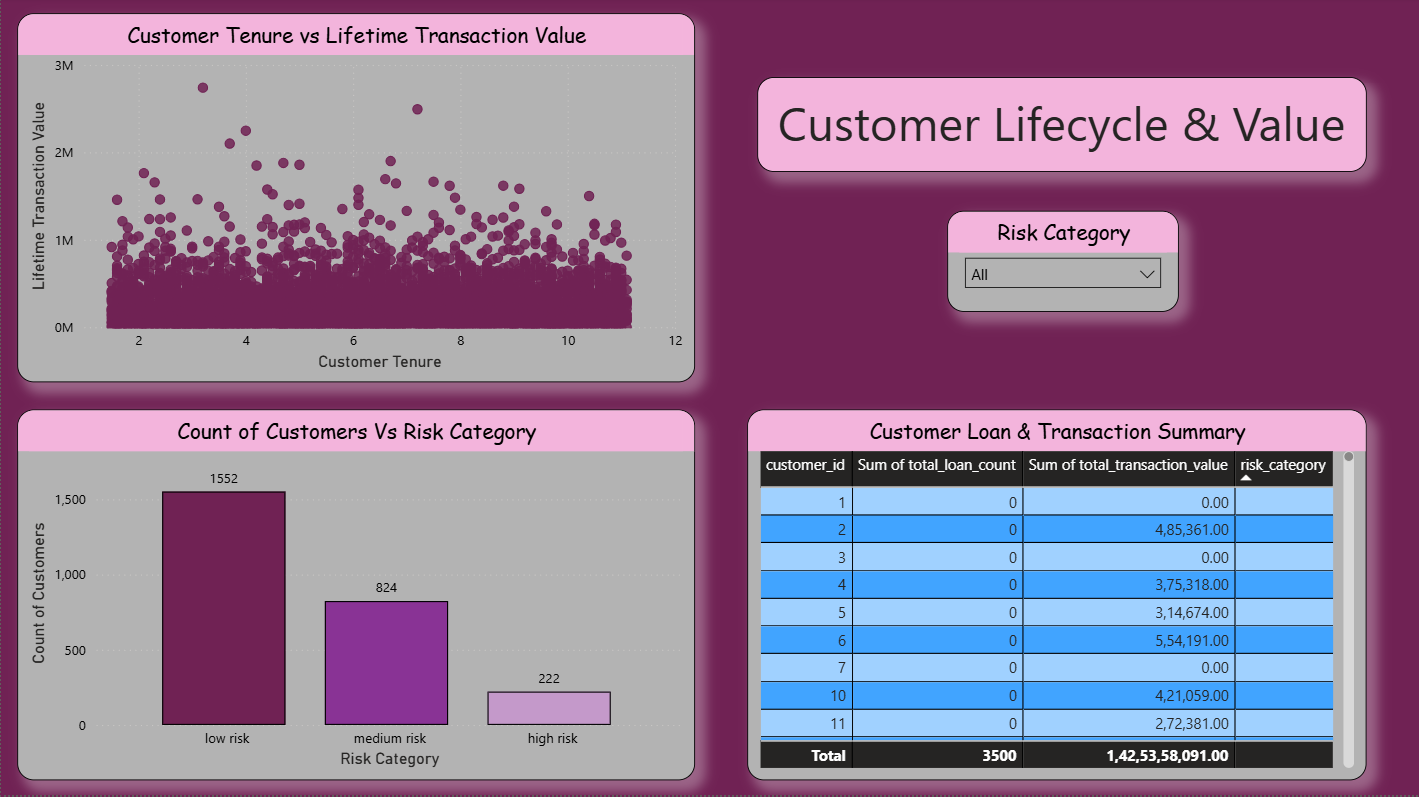

The dashboard page shown, as its layout file describes it:
{"tool":"powerbi","page":{"name":"Customer Lifecycle &  Value","canvas":[1280,720],"ordinal":1},"visuals":[{"type":"scatterChart","title":"Customer Tenure vs Lifetime Transaction Value","fields":{"X":["bank_db customer_lifecycle_value.customer_years"],"Y":["bank_db customer_lifecycle_value.total_transaction_value"]},"box":[15,15,610.8,332.7],"z":0},{"type":"tableEx","title":"Customer Loan & Transaction Summary","fields":{"Values":["bank_db customer_lifecycle_value.customer_id","Sum(bank_db customer_lifecycle_value.total_loan_count)","Sum(bank_db customer_lifecycle_value.total_transaction_value)","bank_db customer_delinquency_summary.risk_category"]},"box":[673.1,372.1,558.1,334.6],"z":1000},{"type":"slicer","title":"Risk Category","fields":{"Values":["bank_db customer_delinquency_summary.risk_category"]},"box":[853.5,192.2,208.6,91.4],"z":2000},{"type":"columnChart","title":"Count of Customers Vs Risk Category","fields":{"Category":["bank_db customer_delinquency_summary.risk_category"],"Y":["Count(bank_db customer_delinquency_summary.customer_id)"],"Series":["bank_db customer_delinquency_summary.risk_category"]},"box":[15,372.2,610.8,334],"z":3000},{"type":"textbox","box":[681.7,72.3,549.5,85.9],"z":4000}]}

Visuals, with their boxes in screenshot pixels (x1, y1, x2, y2), scaled from the page's 1280x720 canvas onto the 1419x797 screenshot:
"Customer Tenure vs Lifetime Transaction Value" scatterChart: BBox(17, 17, 694, 385)
"Customer Loan & Transaction Summary" tableEx: BBox(746, 412, 1365, 782)
"Risk Category" slicer: BBox(946, 213, 1177, 314)
"Count of Customers Vs Risk Category" columnChart: BBox(17, 412, 694, 782)
textbox: BBox(756, 80, 1365, 175)
